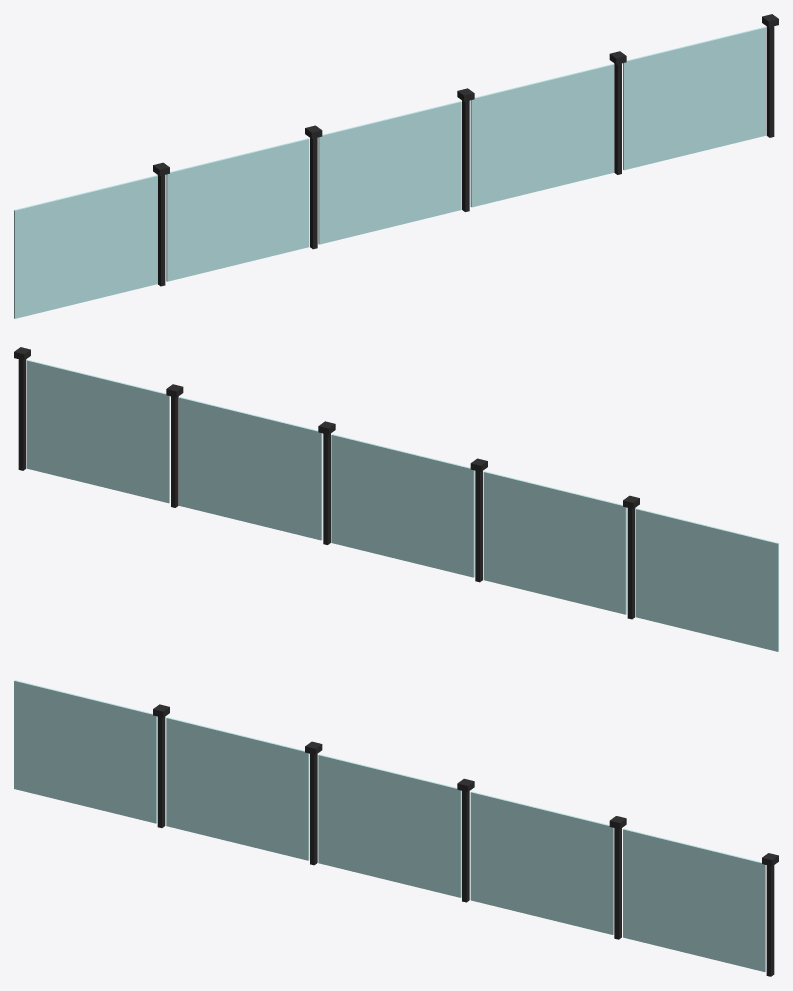
The model's file is Balcony.011.fbx.
The picture shows the model from 3 angles, top to bottom: view 1: azimuth 30°, elevation 25°; view 2: azimuth 150°, elevation 25°; view 3: azimuth 330°, elevation 25°; orthographic projection.
Visible parts, largest first — view 1: Balcony.011; view 2: Balcony.011; view 3: Balcony.011.
Part boxes in pixels (left/top/right/bottom): Balcony.011: left=14, top=14, right=778, bottom=318; Balcony.011: left=14, top=347, right=778, bottom=651; Balcony.011: left=14, top=680, right=778, bottom=976.
Bounding box in the file's own units: 2938 × 437 × 44.44.
